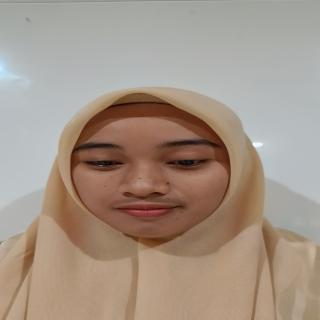Sedih: (68, 103, 231, 240)
